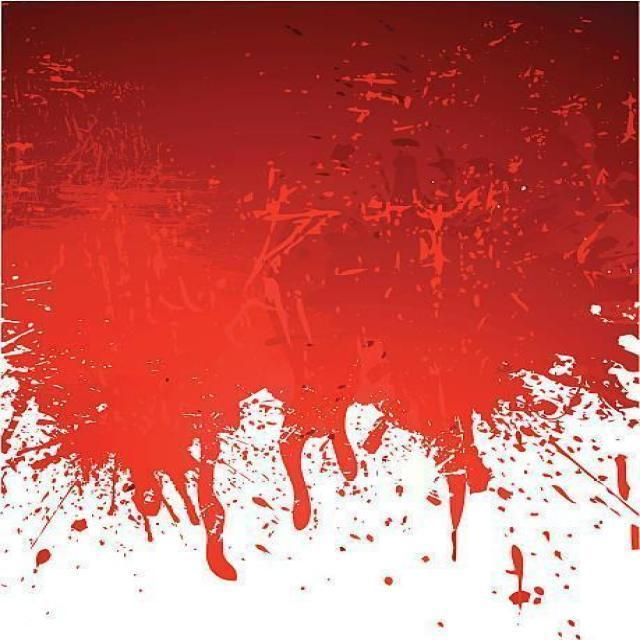knife: (195, 435, 235, 581), (478, 378, 552, 452), (561, 348, 637, 418), (276, 407, 311, 536), (429, 435, 465, 530), (326, 398, 362, 481), (0, 370, 35, 455), (455, 423, 491, 500), (184, 392, 248, 434), (165, 453, 197, 527), (0, 316, 39, 375), (125, 470, 161, 518), (506, 542, 530, 607), (16, 432, 74, 456), (607, 341, 640, 375), (30, 382, 63, 416), (361, 418, 391, 454), (611, 452, 631, 500), (31, 452, 61, 475), (108, 465, 118, 518), (0, 455, 26, 474), (162, 495, 179, 524), (32, 546, 51, 568), (55, 411, 77, 430), (532, 583, 548, 608), (91, 454, 111, 471), (113, 453, 129, 474), (449, 532, 459, 563), (425, 489, 442, 507), (630, 522, 640, 551), (56, 442, 72, 459), (69, 519, 87, 534), (79, 459, 90, 483), (143, 518, 153, 543), (252, 495, 270, 508), (497, 486, 512, 501), (34, 417, 55, 427), (318, 441, 329, 460), (0, 471, 8, 496), (0, 386, 15, 399), (360, 459, 369, 480), (127, 513, 141, 526), (255, 543, 269, 554), (396, 481, 405, 498), (240, 403, 249, 419), (258, 403, 271, 414), (63, 459, 77, 469), (74, 481, 83, 495), (384, 575, 394, 587), (122, 483, 135, 492), (351, 485, 361, 496), (420, 554, 431, 564), (336, 488, 346, 498), (32, 506, 42, 516), (365, 533, 374, 544), (384, 516, 393, 527), (241, 449, 248, 462), (120, 498, 130, 507), (321, 461, 336, 467), (435, 620, 445, 629), (349, 533, 360, 541), (91, 470, 98, 482), (30, 473, 39, 482), (266, 421, 277, 428), (256, 424, 266, 431), (318, 466, 327, 473), (246, 420, 256, 426), (74, 469, 81, 477), (252, 445, 260, 452), (270, 456, 278, 463), (252, 397, 258, 404), (267, 445, 274, 451), (64, 471, 71, 476), (264, 451, 269, 458)
